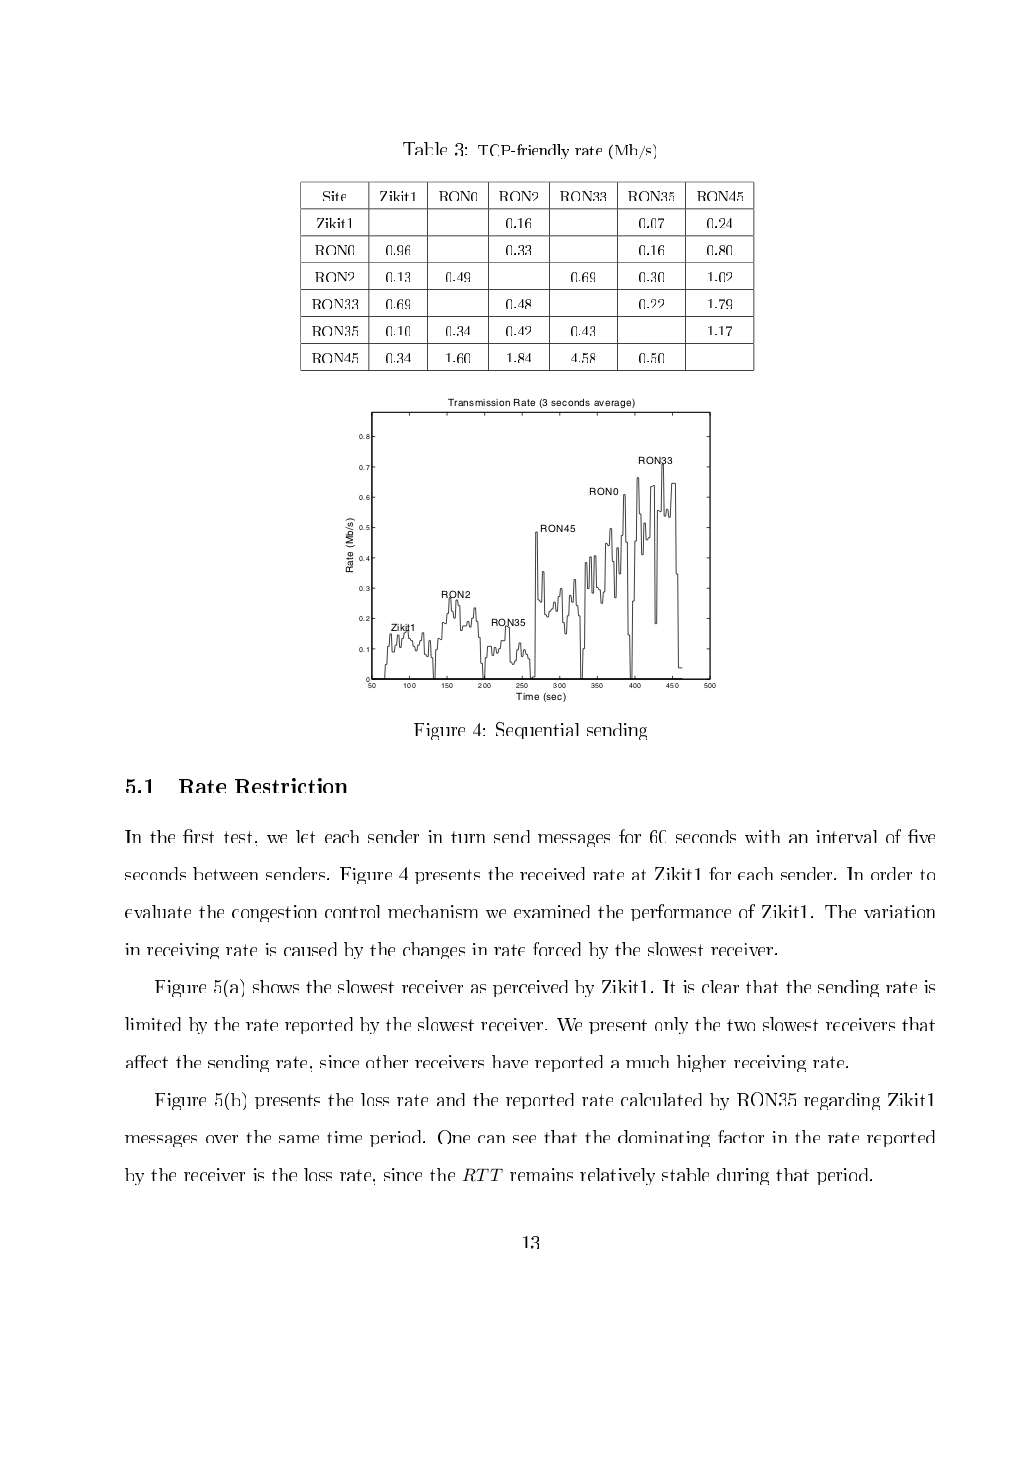Table: (300, 180, 754, 371)
figure: (345, 398, 715, 700)
